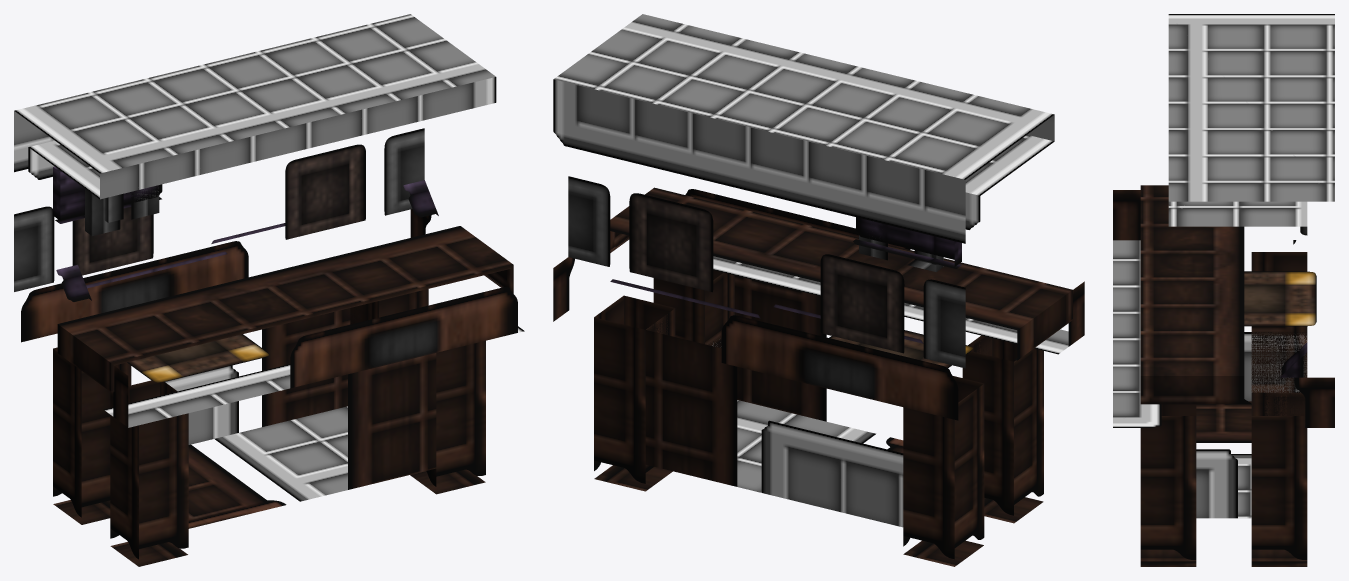
The model's file is augmentation_station.obj.
3 renders of one model, left to right at view 1: azimuth 30°, elevation 25°; view 2: azimuth 150°, elevation 25°; view 3: azimuth 270°, elevation 25°, orthographic. The views are drawn at different scales.
Parts seen in each view (by area): view 1: Augmentation_Station_Cube.008, Augment_Holder_Cube.015; view 2: Augmentation_Station_Cube.008, Augment_Holder_Cube.015; view 3: Augmentation_Station_Cube.008.
Part boxes in pixels (x1=…): Augmentation_Station_Cube.008: x1=14, y1=14, x2=524, y2=566; Augment_Holder_Cube.015: x1=85, y1=185, x2=159, y2=236; Augmentation_Station_Cube.008: x1=553, y1=14, x2=1084, y2=566; Augment_Holder_Cube.015: x1=859, y1=229, x2=943, y2=271; Augmentation_Station_Cube.008: x1=1113, y1=14, x2=1334, y2=566.
Bounding box in the file's own units: 2.03 × 1.88 × 1.
